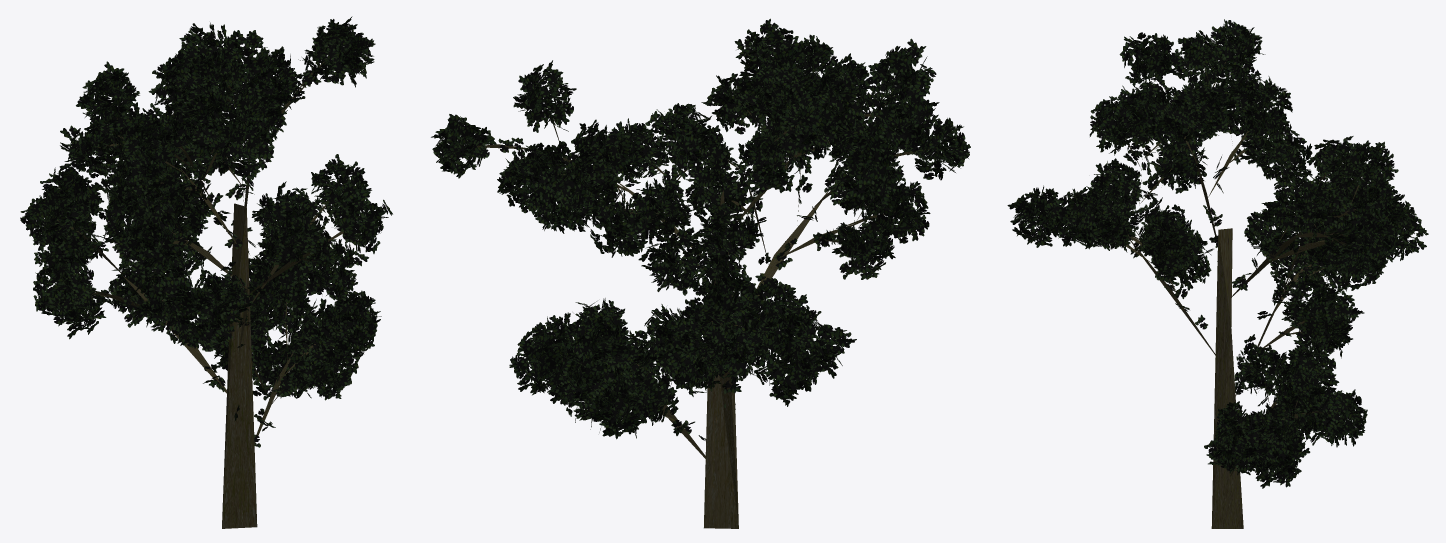
Rendered from evergreen_broad_v02_LOD1.fbx.
The picture shows the model from 3 angles, left to right: view 1: azimuth 30°, elevation 25°; view 2: azimuth 150°, elevation 25°; view 3: azimuth 270°, elevation 25°; orthographic projection. The views are drawn at different scales.
Parts seen in each view (by area): view 1: evergreen_broad_v02_LOD1; view 2: evergreen_broad_v02_LOD1; view 3: evergreen_broad_v02_LOD1.
Part boxes in pixels (x1=…): evergreen_broad_v02_LOD1: x1=20, y1=16, x2=392, y2=528; evergreen_broad_v02_LOD1: x1=431, y1=18, x2=970, y2=528; evergreen_broad_v02_LOD1: x1=1007, y1=19, x2=1428, y2=528.
Size of the model in its own units: 2003 by 2001 by 2342.
Materials: 2 (2 with a texture image).
